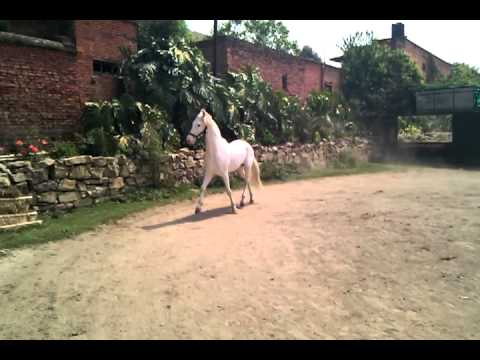equine: (176, 105, 275, 228)
